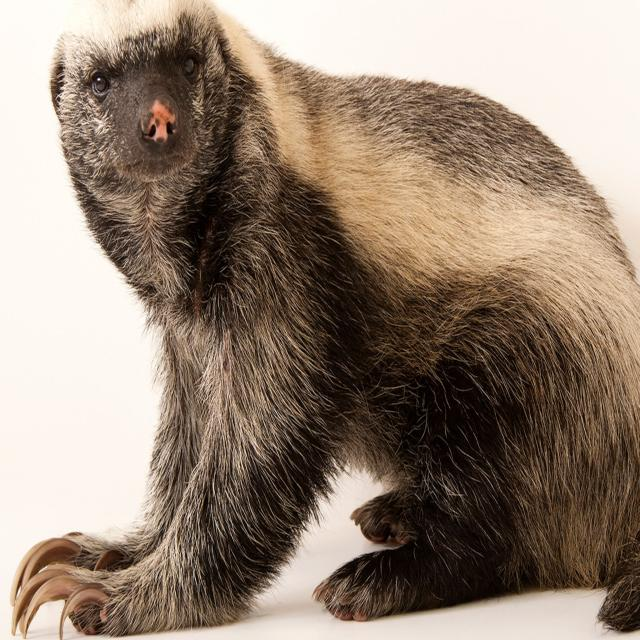Badger: (60, 6, 640, 640)
